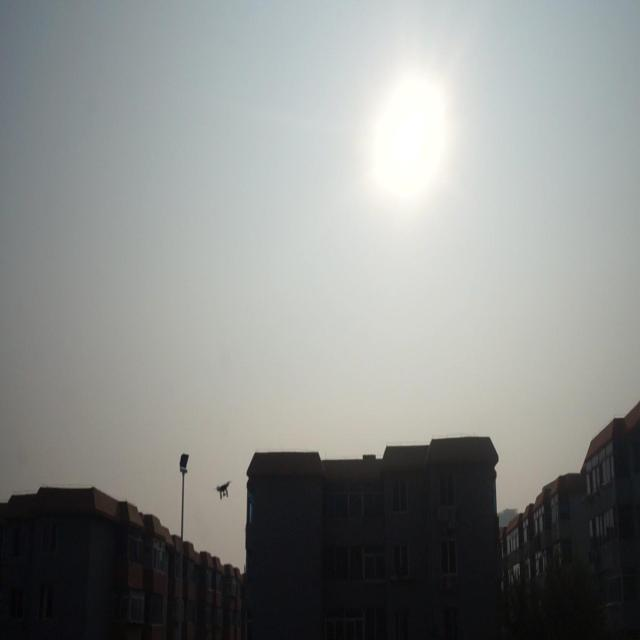drone: (213, 478, 232, 502)
